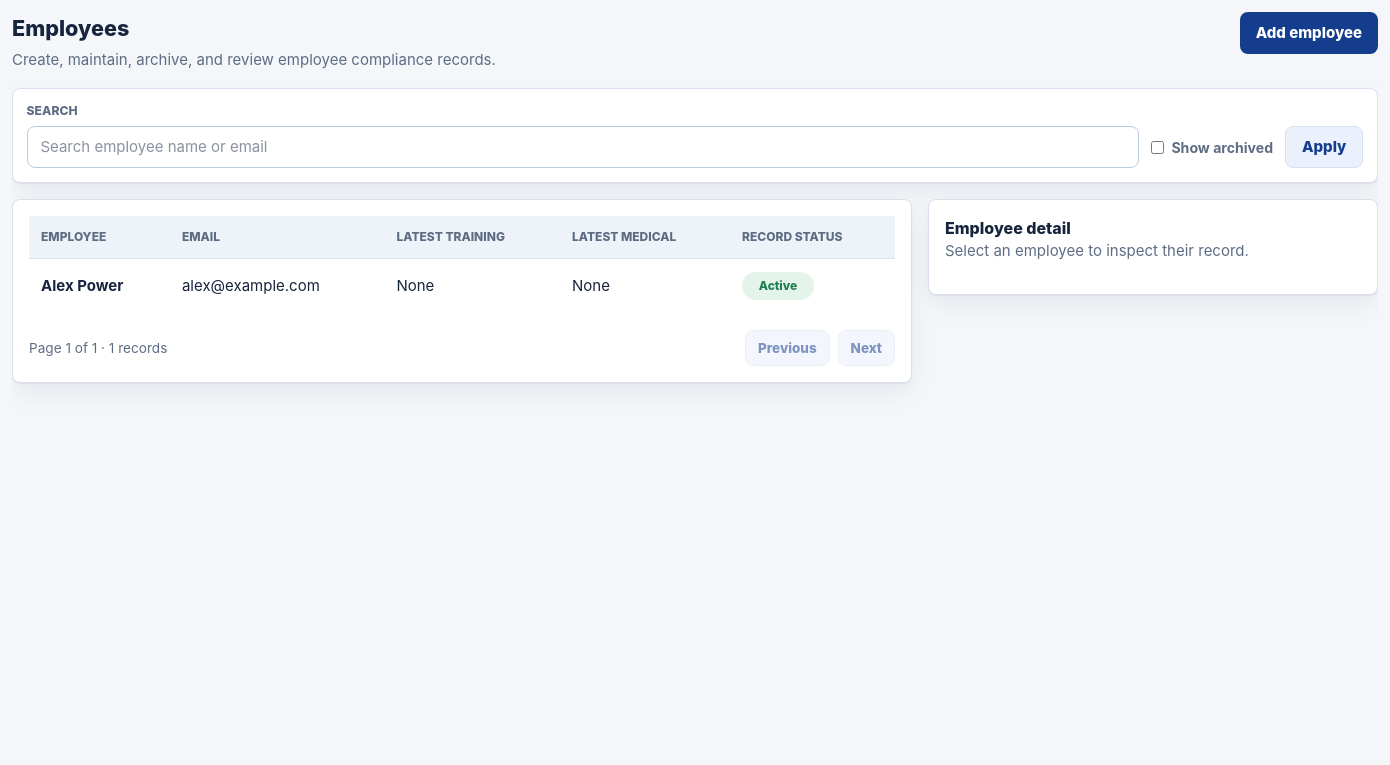
Test case: ManageEmployees › shows contact information without requiring an employee account
The image size is (1390, 765).
Check: the table shows "alex@example.com", box [182, 276, 320, 295]
Click the row "Alex Power alex@example.com None None Active". click: (82, 286)
box: [29, 258, 895, 314]
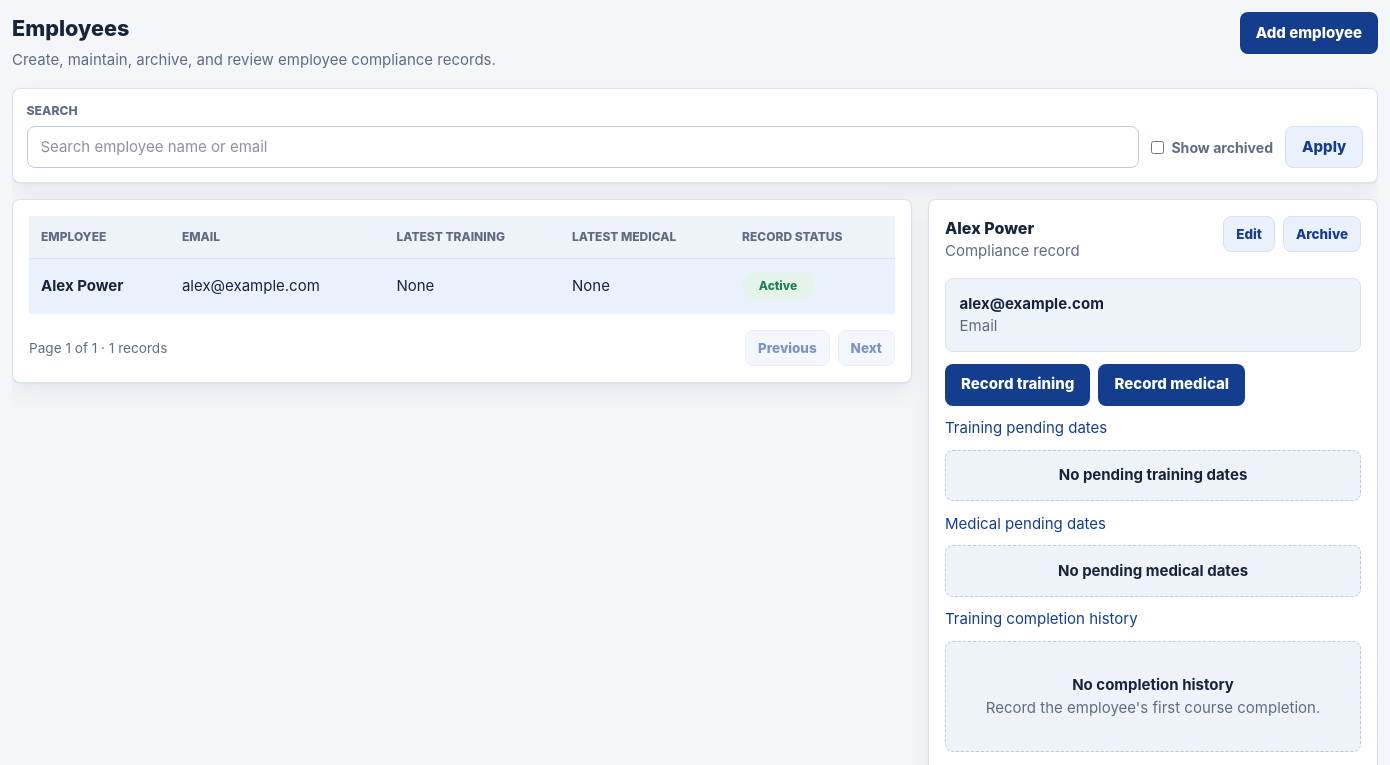
Check: the element showing "alex@example.com Email" is shown, box [945, 278, 1361, 352]
